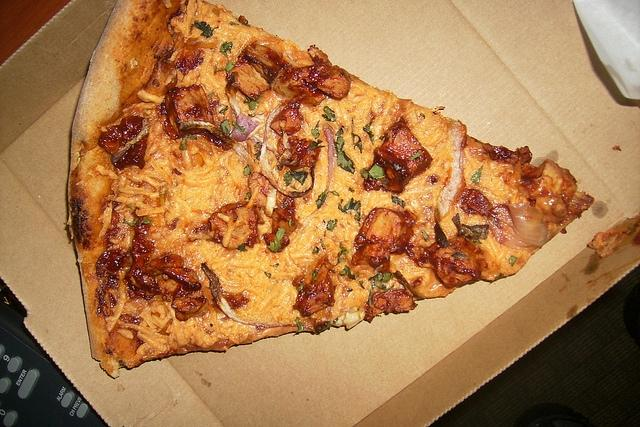onion: (202, 262, 280, 327), (434, 118, 468, 222), (508, 203, 548, 246), (228, 112, 260, 142), (326, 128, 338, 191), (342, 308, 366, 330), (265, 182, 277, 216)
